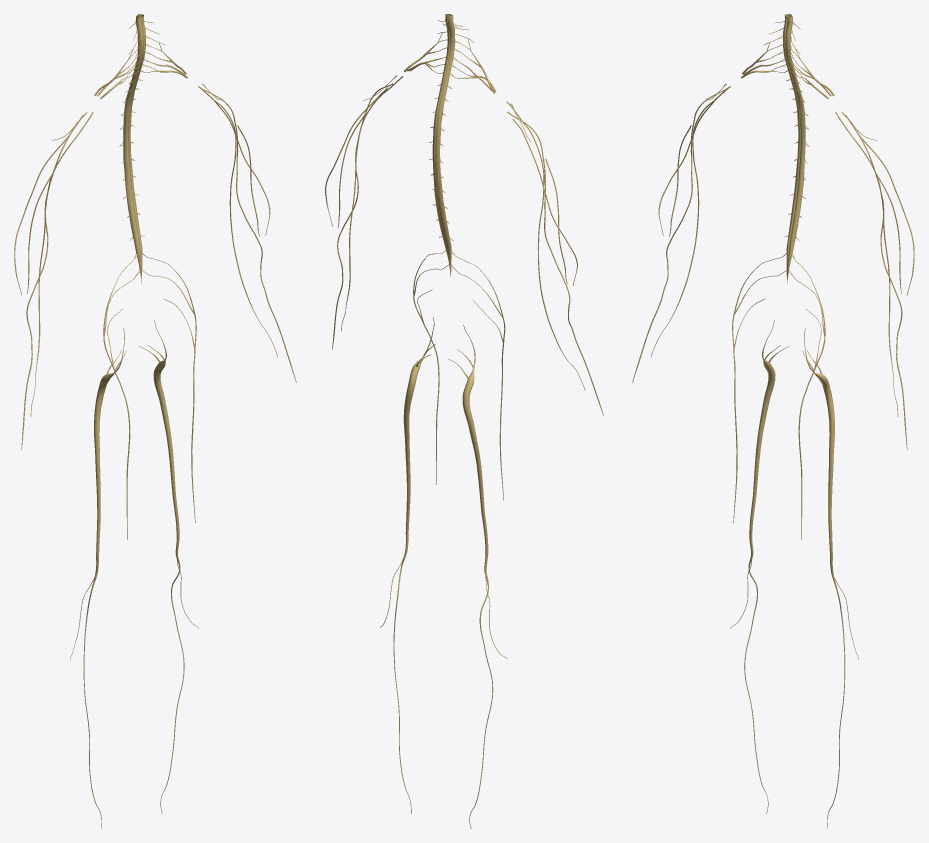
The model's file is nervous-mobile.glb.
3 views of the same model, side by side, from view 1: azimuth 30°, elevation 25°; view 2: azimuth 150°, elevation 25°; view 3: azimuth 330°, elevation 25° (orthographic).
Parts seen in each view (by area): view 1: za.white-matter-of-spinal-cord, za.sciatic-nerve-r, za.sciatic-nerve-l, za.femoral-nerve-l, za.femoral-nerve-r, za.median-nerve-r, za.median-nerve-l; view 2: za.white-matter-of-spinal-cord, za.sciatic-nerve-r, za.sciatic-nerve-l, za.median-nerve-r, za.femoral-nerve-r; view 3: za.white-matter-of-spinal-cord, za.sciatic-nerve-l, za.sciatic-nerve-r, za.femoral-nerve-r, za.femoral-nerve-l, za.median-nerve-l, za.median-nerve-r.
Boxes of the visible parts, <box> form: za.white-matter-of-spinal-cord: <box>123,14,145,282</box>; za.sciatic-nerve-r: <box>94,328,126,571</box>; za.sciatic-nerve-l: <box>139,320,179,552</box>; za.femoral-nerve-l: <box>146,256,196,522</box>; za.femoral-nerve-r: <box>103,259,133,539</box>; za.median-nerve-r: <box>21,115,83,449</box>; za.median-nerve-l: <box>202,88,296,382</box>; za.white-matter-of-spinal-cord: <box>432,14,455,276</box>; za.sciatic-nerve-r: <box>448,324,488,568</box>; za.sciatic-nerve-l: <box>403,317,435,548</box>; za.median-nerve-r: <box>507,111,603,415</box>; za.femoral-nerve-r: <box>455,255,505,500</box>; za.white-matter-of-spinal-cord: <box>783,14,805,283</box>; za.sciatic-nerve-l: <box>802,328,834,571</box>; za.sciatic-nerve-r: <box>749,320,789,552</box>; za.femoral-nerve-r: <box>732,256,782,522</box>; za.femoral-nerve-l: <box>795,259,825,539</box>; za.median-nerve-l: <box>845,115,907,449</box>; za.median-nerve-r: <box>632,88,726,382</box>.
Size of the model in its own units: 0.528 by 1.49 by 0.1209.
